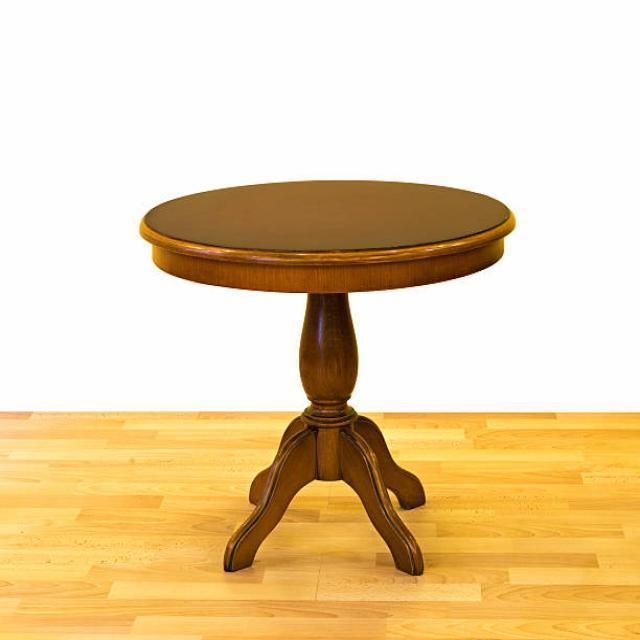table: (138, 178, 516, 576)
